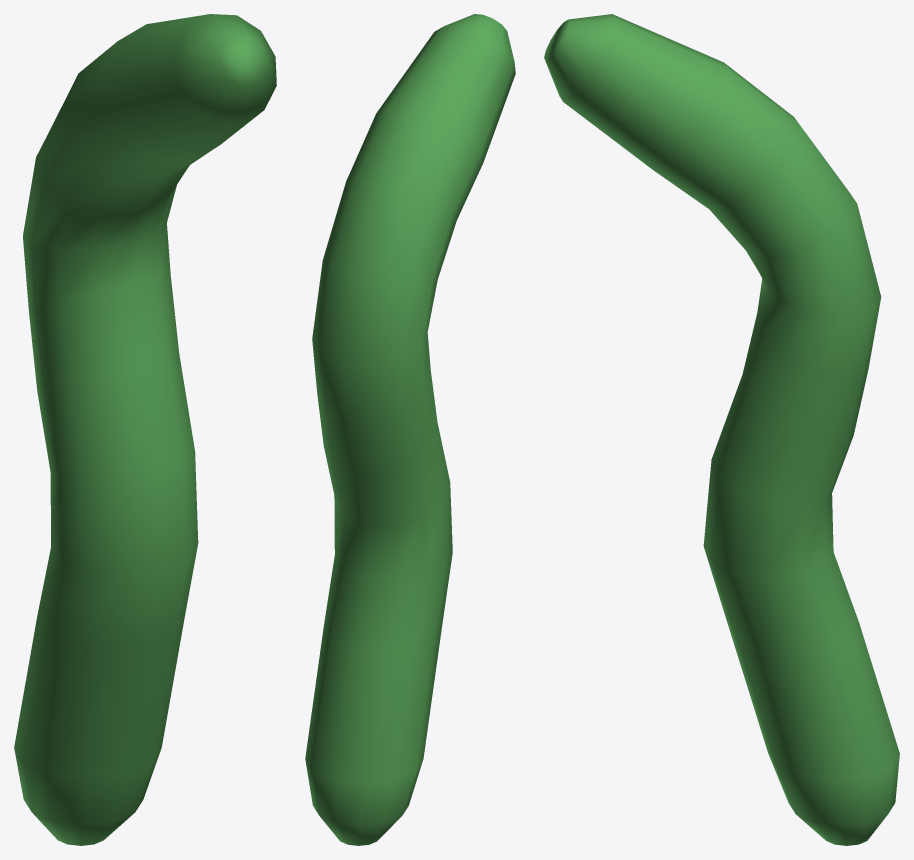
File: worm2.fbx
3 views of the same model, side by side, from view 1: azimuth 30°, elevation 25°; view 2: azimuth 150°, elevation 25°; view 3: azimuth 270°, elevation 25° (orthographic). The views are drawn at different scales.
Parts seen in each view (by area): view 1: worm1; view 2: worm1; view 3: worm1.
Boxes of the visible parts, box(x1,y1,x2,y2) form: worm1: box(14, 14, 276, 845); worm1: box(305, 14, 515, 845); worm1: box(544, 14, 899, 845).
Size of the model in its own units: 31.64 by 216 by 85.52.
